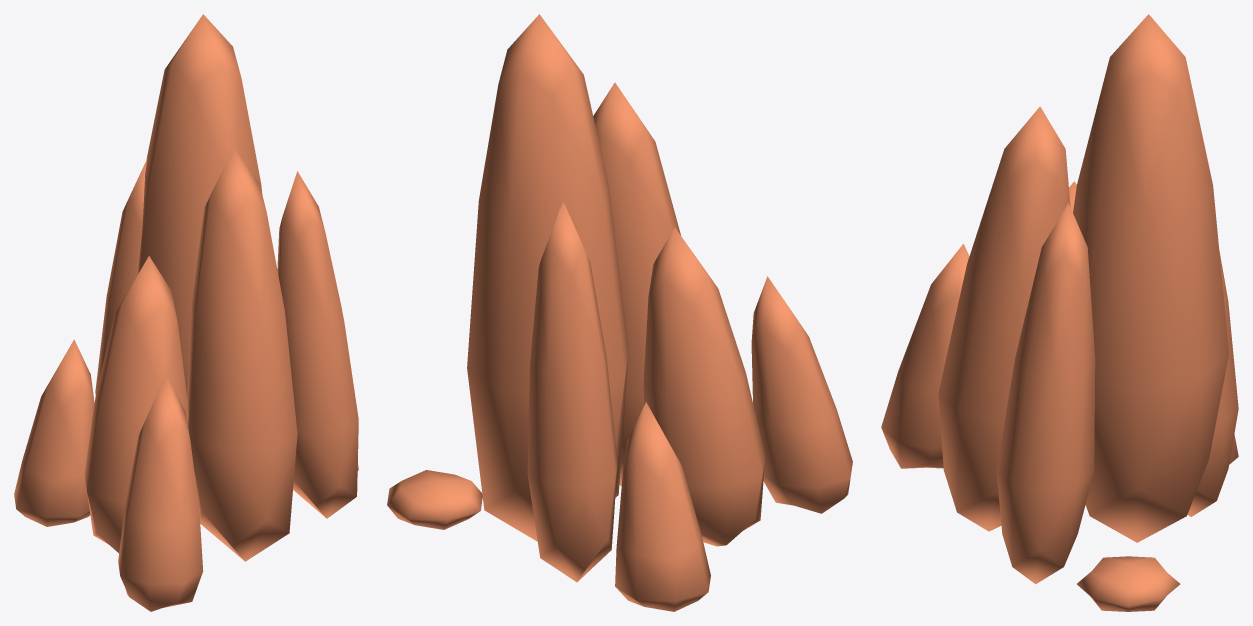
The model's file is rock04.fbx.
3 renders of one model, left to right at view 1: azimuth 30°, elevation 25°; view 2: azimuth 150°, elevation 25°; view 3: azimuth 270°, elevation 25°, orthographic. The views are drawn at different scales.
Parts seen in each view (by area): view 1: rock_04; view 2: rock_04; view 3: rock_04.
Boxes of the visible parts, x1,y1,x2,y2 form: rock_04: (14,14,358,611); rock_04: (387,14,852,611); rock_04: (881,14,1238,611).
Bounding box in the file's own units: 2.81 × 4.02 × 2.44.
Materials: 1 (1 with a texture image).
